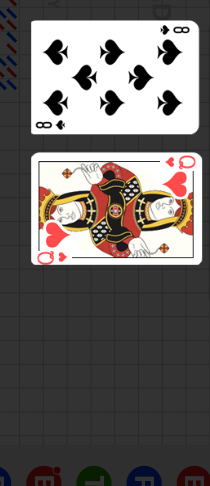8S: (34, 118, 68, 131)
9H: (35, 249, 69, 265)
